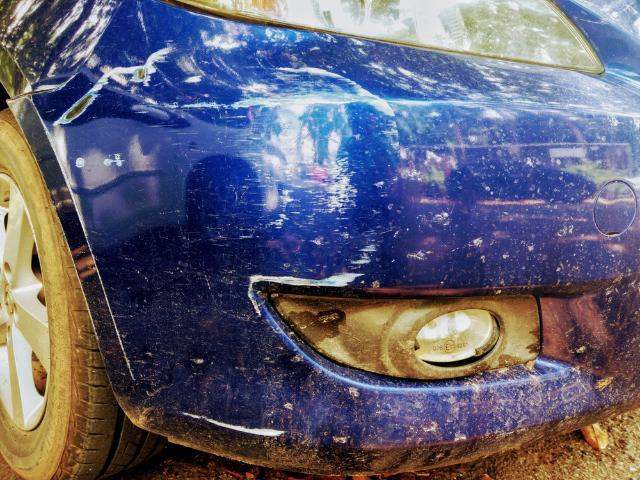scratch: (233, 62, 402, 320), (53, 43, 174, 130), (178, 409, 294, 441)
